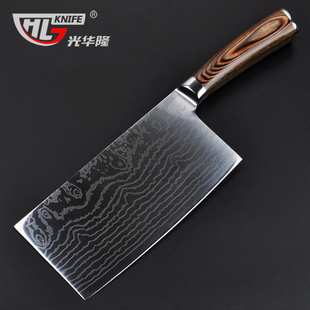knief: (71, 13, 293, 298)
